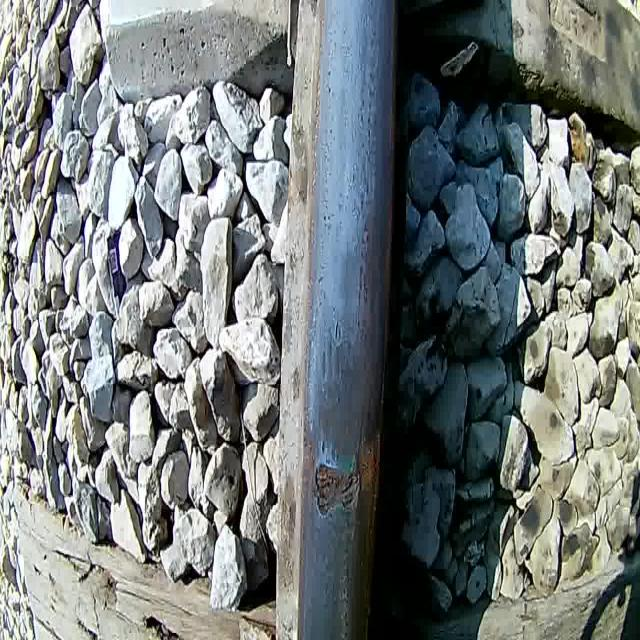Spallings: (309, 450, 363, 526)
Squats: (304, 310, 377, 469)
